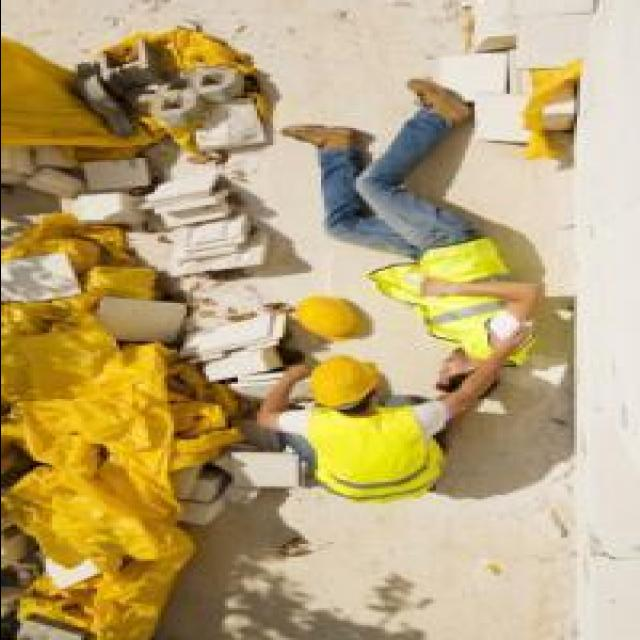helmet: (299, 354, 382, 406), (286, 288, 361, 344)
jacket: (370, 222, 538, 364), (296, 397, 446, 507)
